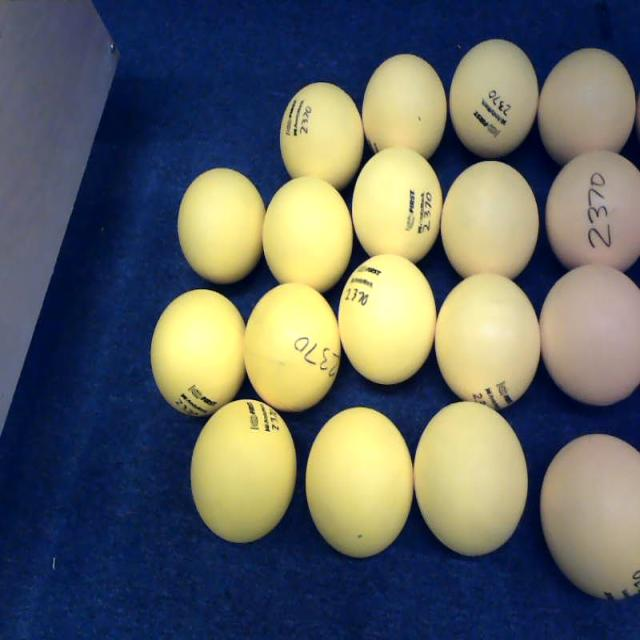Fuel: (413, 401, 529, 557), (540, 432, 640, 601), (305, 406, 414, 559), (190, 398, 297, 544), (434, 272, 541, 413), (539, 264, 639, 407), (338, 253, 437, 386), (244, 282, 342, 413), (150, 288, 248, 418), (440, 160, 540, 284), (537, 46, 636, 170), (545, 149, 639, 275), (352, 146, 444, 266), (262, 175, 353, 295), (449, 39, 539, 160), (177, 167, 268, 285), (361, 53, 447, 164), (280, 82, 365, 192)
